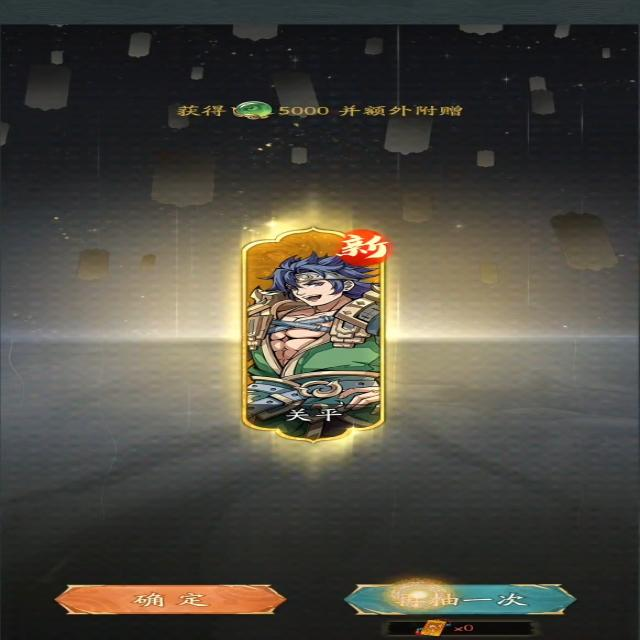operation-confirm: (45, 581, 289, 618)
